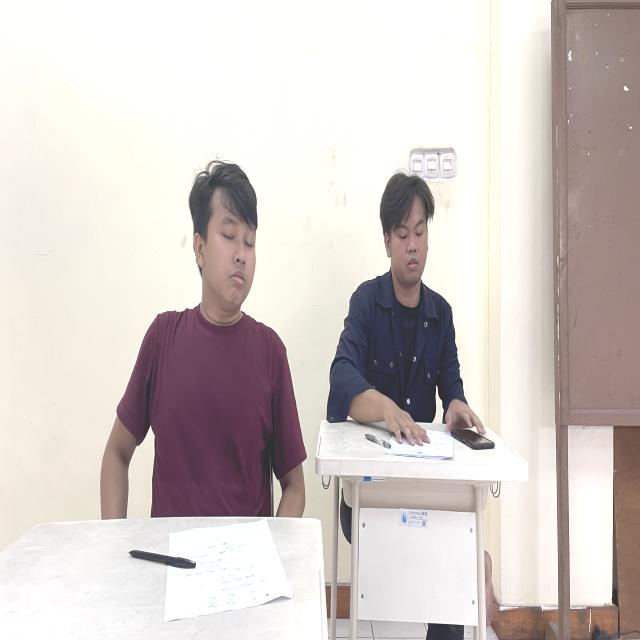phone: (425, 395, 500, 460)
